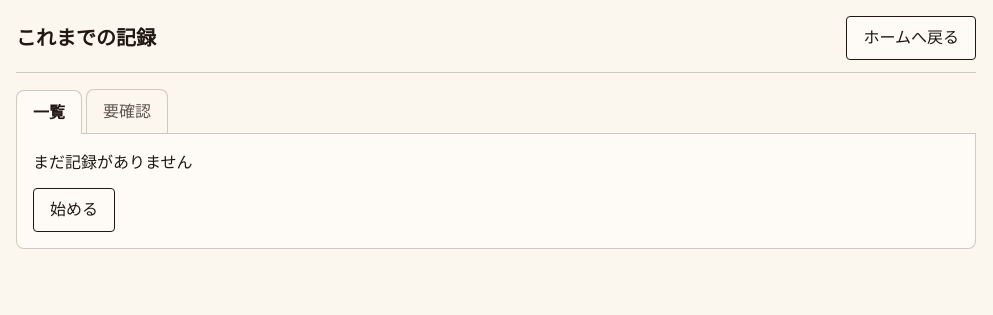
Scenario: history: 完全な空記録でも要確認の基準を出す
Click the tab "要確認". click: (127, 111)
box: x1=86 y1=89 x2=168 y2=133
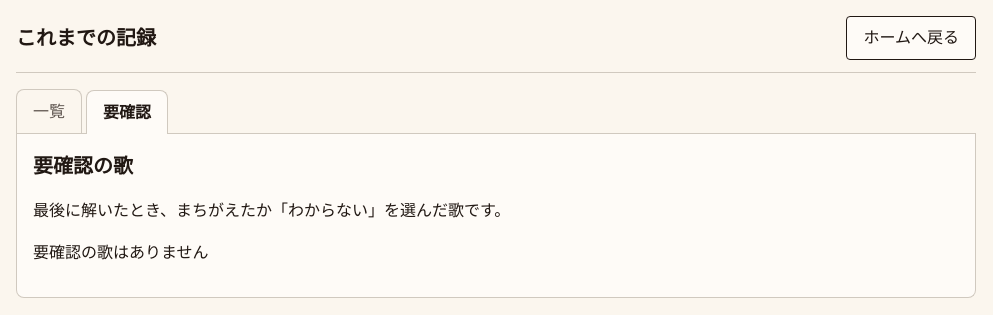
Check: the text "最後に解いたとき、まちがえたか「わからない」を選んだ歌です。" is shown, box x1=33 y1=202 x2=510 y2=219
